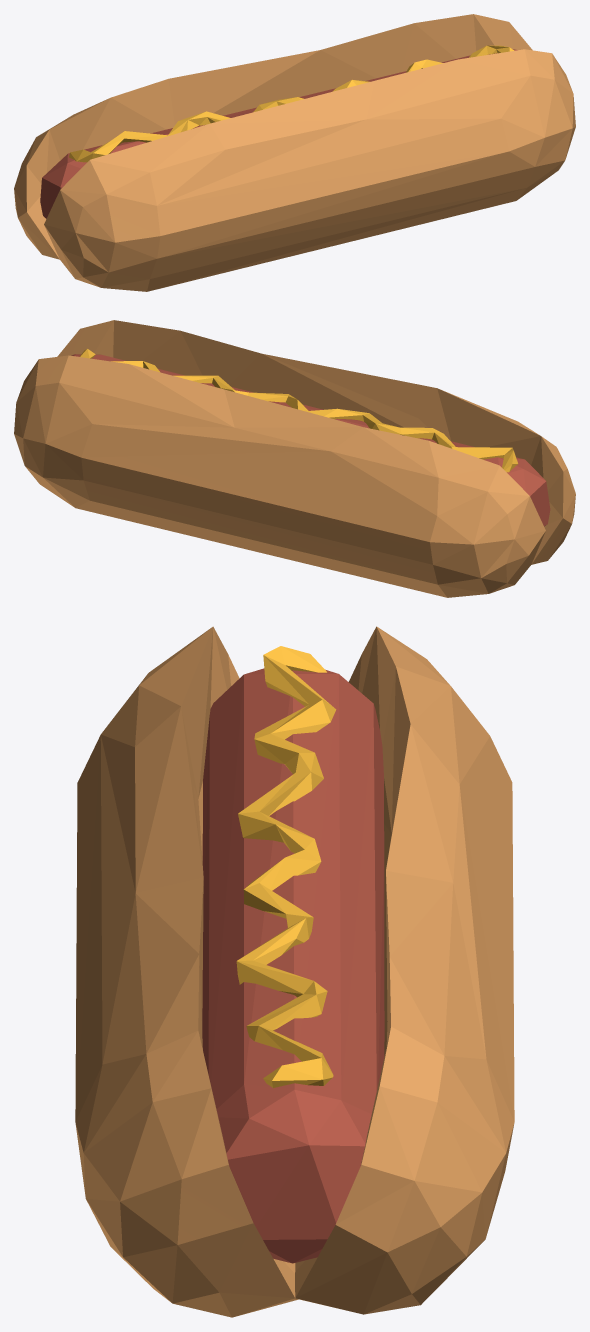
File: Hotdog_01.fbx
3 renders of one model, top to bottom at view 1: azimuth 30°, elevation 25°; view 2: azimuth 150°, elevation 25°; view 3: azimuth 270°, elevation 25°, orthographic. The views are drawn at different scales.
Visible parts, largest first — view 1: Hotdog_01; view 2: Hotdog_01; view 3: Hotdog_01.
Part boxes in pixels (x1,y1,x2,y2): Hotdog_01: (14, 14, 575, 291); Hotdog_01: (14, 320, 575, 597); Hotdog_01: (75, 626, 514, 1317).
Bounding box in the file's own units: 21.81 × 6.17 × 8.01.
